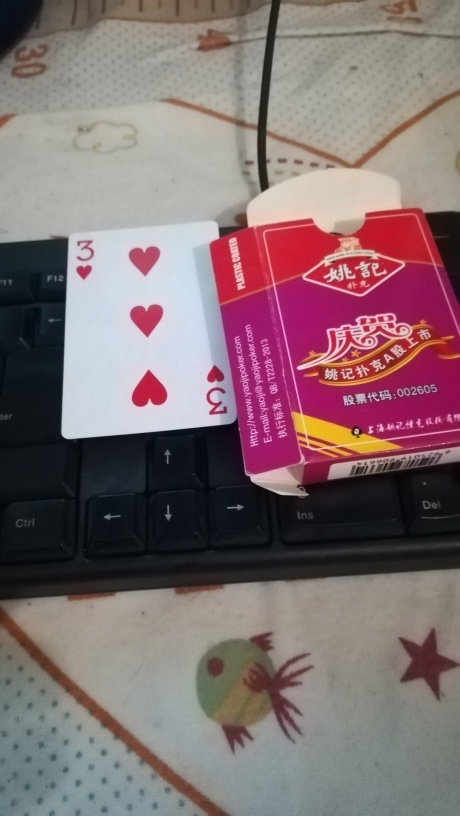hx 3: (60, 225, 235, 442)
